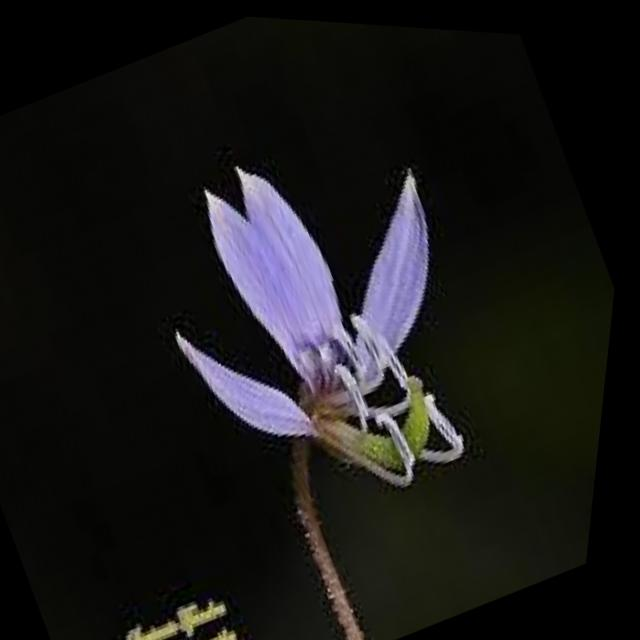Flower: (90, 65, 552, 560)
